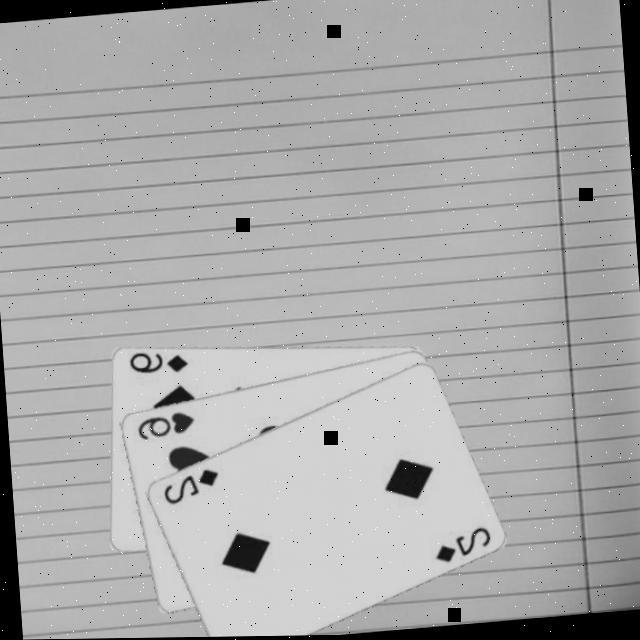2D: (159, 463, 223, 506), (431, 522, 495, 564)
6H: (132, 404, 198, 442)
9D: (124, 344, 190, 377)
